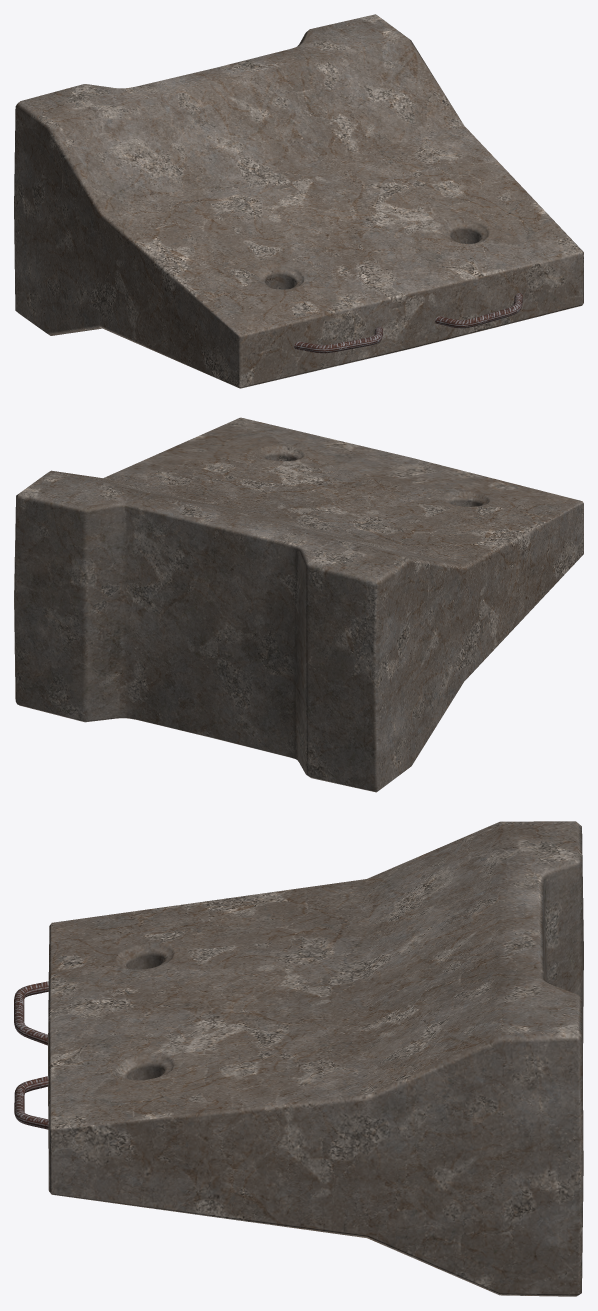
File: Obstacle_C.obj
3 renders of one model, top to bottom at view 1: azimuth 30°, elevation 25°; view 2: azimuth 150°, elevation 25°; view 3: azimuth 270°, elevation 25°, orthographic. The views are drawn at different scales.
Visible parts, largest first — view 1: barricada_barricada_0; view 2: barricada_barricada_0; view 3: barricada_barricada_0.
Boxes of the visible parts, left/top/right/bottom form: barricada_barricada_0: left=14, top=14, right=583, bottom=388; barricada_barricada_0: left=14, top=417, right=583, bottom=792; barricada_barricada_0: left=14, top=821, right=583, bottom=1296.
Bounding box in the file's own units: 1.13 × 0.6386 × 1.24.
1 material, 1 textured.
